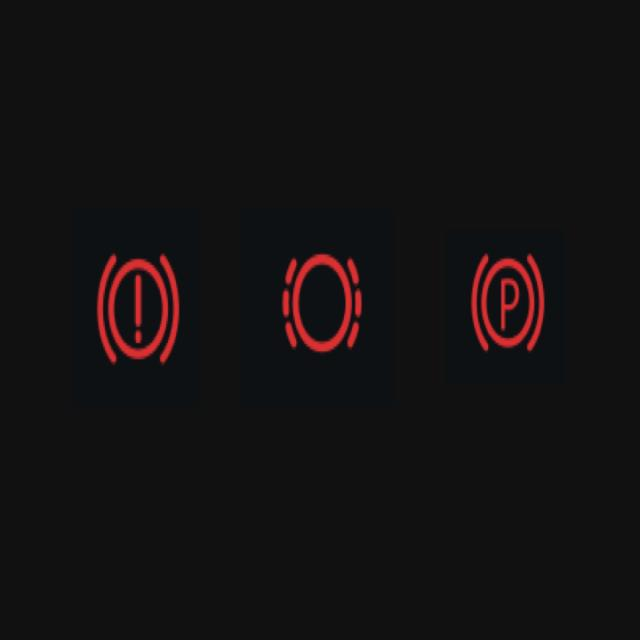kontrolka: (271, 232, 375, 376), (89, 238, 192, 380), (460, 236, 560, 375)
